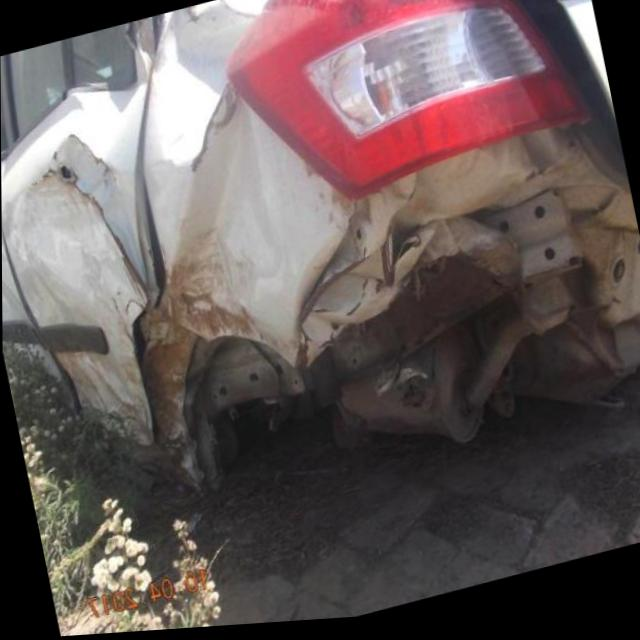Car-Damage: (19, 0, 640, 549)
